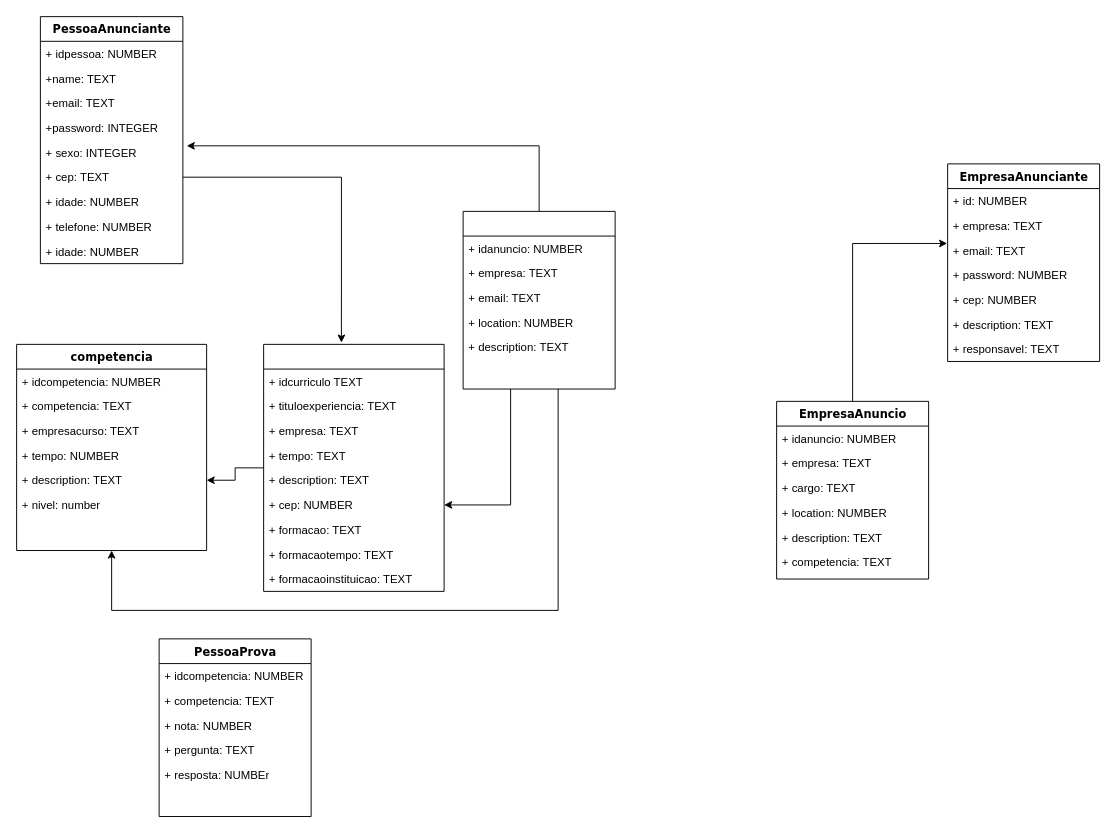
This 1116x833 diagram has some shape labels left out. Here are the shapes that lost their labels. From the top down, the box of each, then its label:
(462, 210, 615, 389): PessoaAnuncio
(263, 343, 444, 591): PessoaCurriculo
